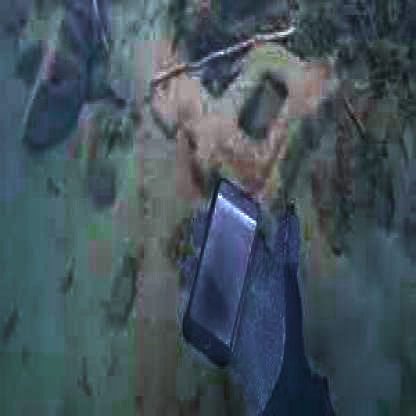cellphone: (182, 176, 262, 374)
